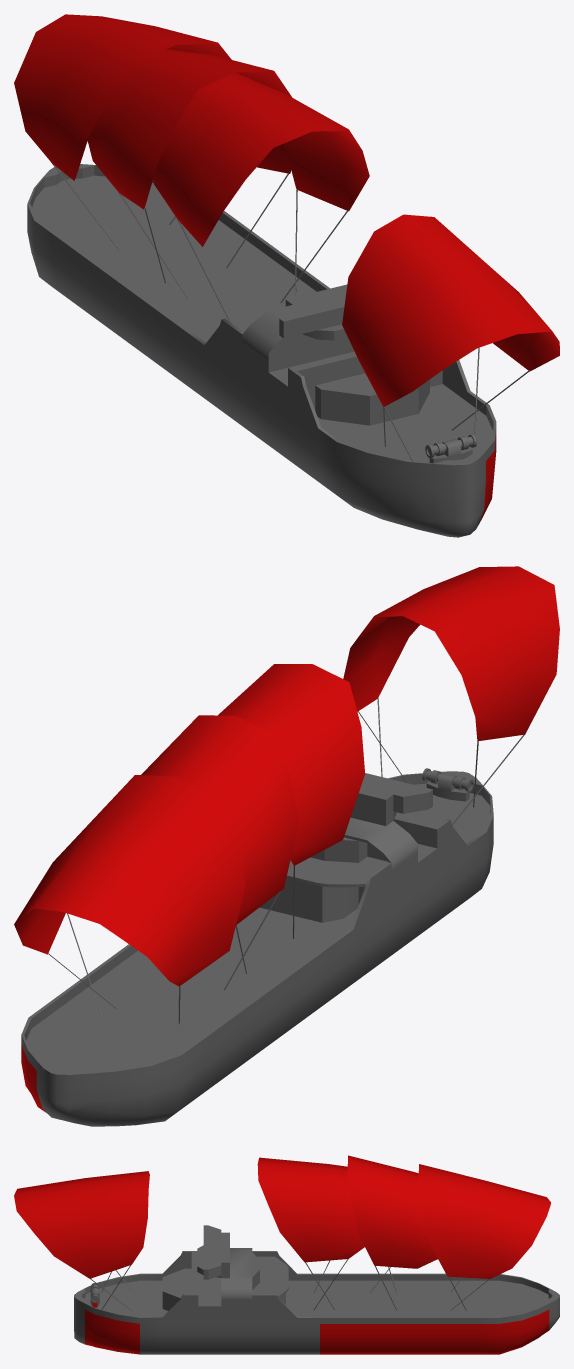
The model's file is merchant_ship_3.FBX.
3 views of the same model, one above another, from view 1: azimuth 30°, elevation 25°; view 2: azimuth 150°, elevation 25°; view 3: azimuth 270°, elevation 25° (orthographic). The views are drawn at different scales.
Parts seen in each view (by area): view 1: Box015; view 2: Box015; view 3: Box015.
Part boxes in pixels (x1,y1,x2,y2): Box015: [14, 14, 559, 537]; Box015: [14, 566, 559, 1126]; Box015: [14, 1155, 559, 1354].
Size of the model in its own units: 333 by 578 by 1596.
